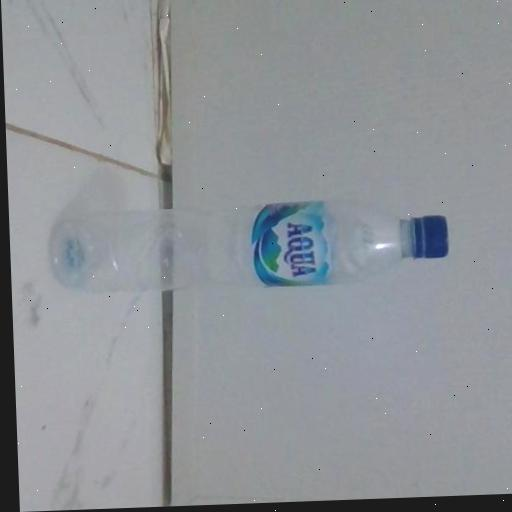bottle: (27, 189, 469, 325)
